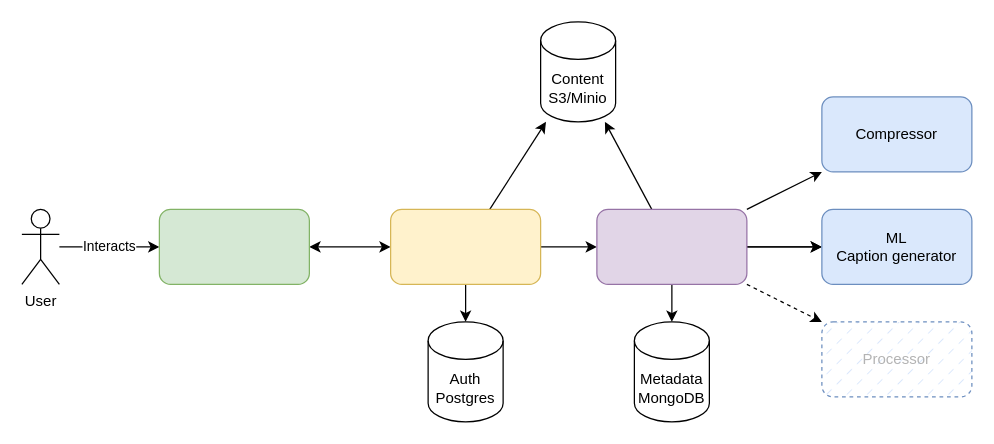
This 994x444 diagram has some shape labels left out. Here are the shapes that lost their labels. From the top down, the centre of each, then its label:
At pixel 233 246: "Mobile app interface".
At pixel 465 246: "Common Backend".
At pixel 671 246: "Processing backend".
